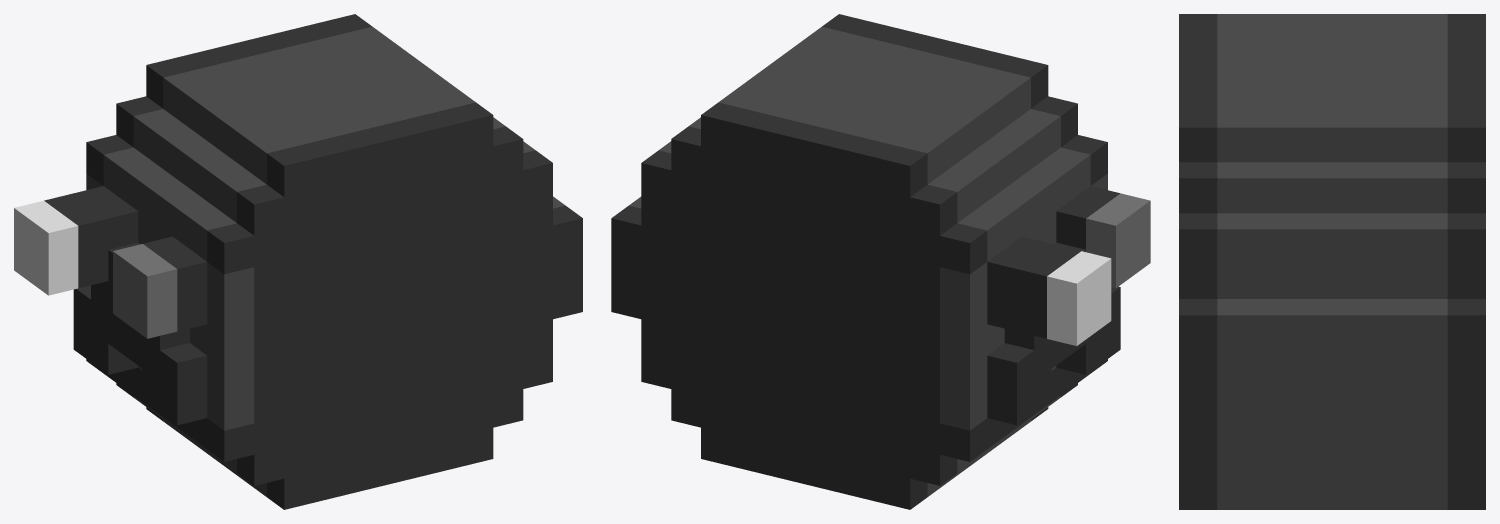
The model's file is Turret_Center.obj.
The picture shows the model from 3 angles, left to right: view 1: azimuth 30°, elevation 25°; view 2: azimuth 150°, elevation 25°; view 3: azimuth 270°, elevation 25°; orthographic projection. The views are drawn at different scales.
Size of the model in its own units: 15 by 11 by 8.
1 material, 1 textured.
